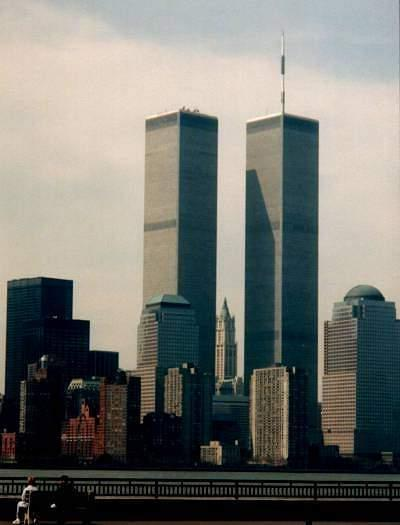building: (246, 25, 320, 472), (139, 101, 218, 466), (323, 278, 400, 472)
